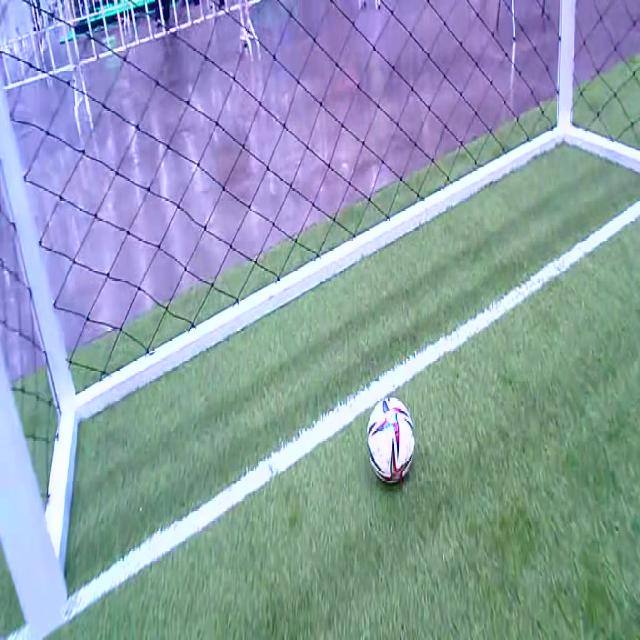ball: (368, 398, 414, 483)
